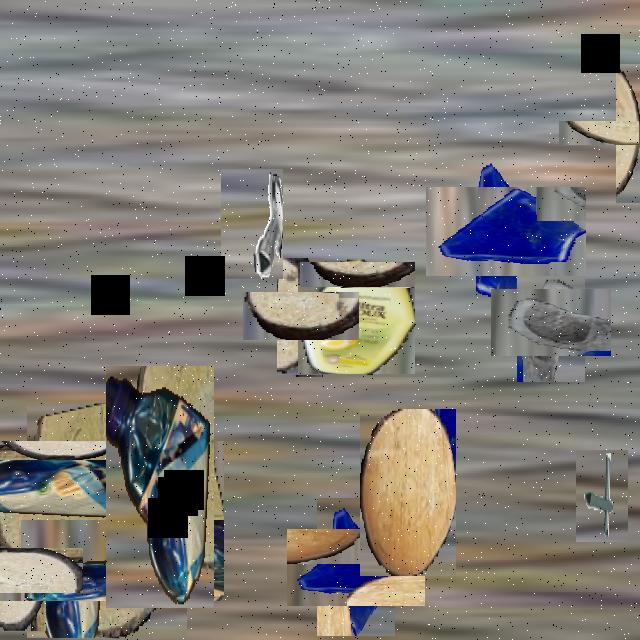glass: (444, 168, 568, 294), (302, 513, 410, 621), (504, 275, 598, 369)
metal: (221, 169, 283, 279), (576, 450, 628, 542)
plastic: (106, 366, 214, 608), (298, 261, 414, 375)
wood: (8, 422, 205, 620), (360, 409, 456, 576), (260, 275, 342, 358), (0, 528, 64, 612), (587, 92, 640, 174)
